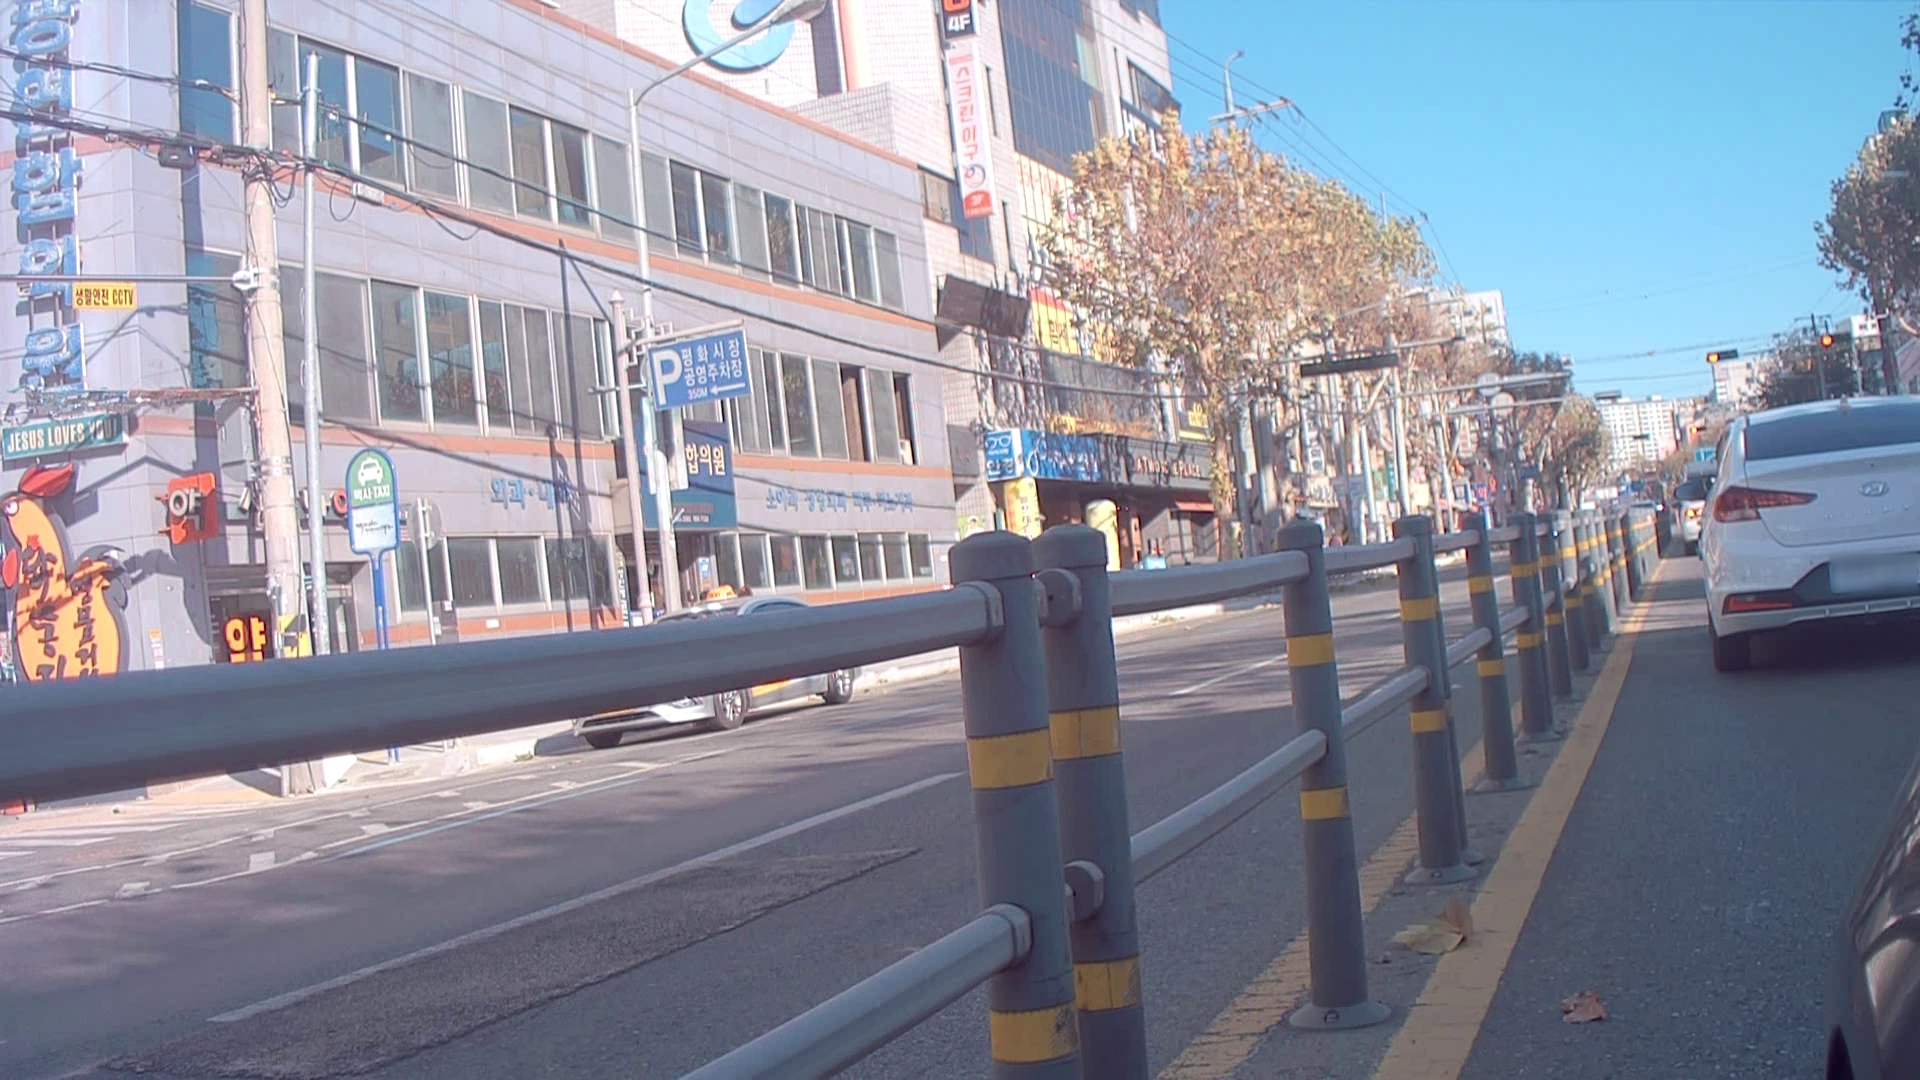trafficLight: (1701, 328, 1851, 371)
